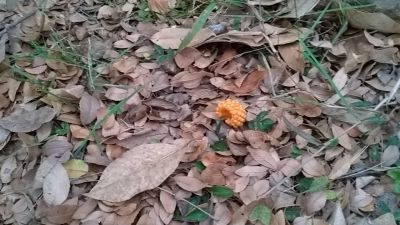eggs: (216, 97, 248, 128)
